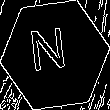N_S: (34, 28, 76, 82)
